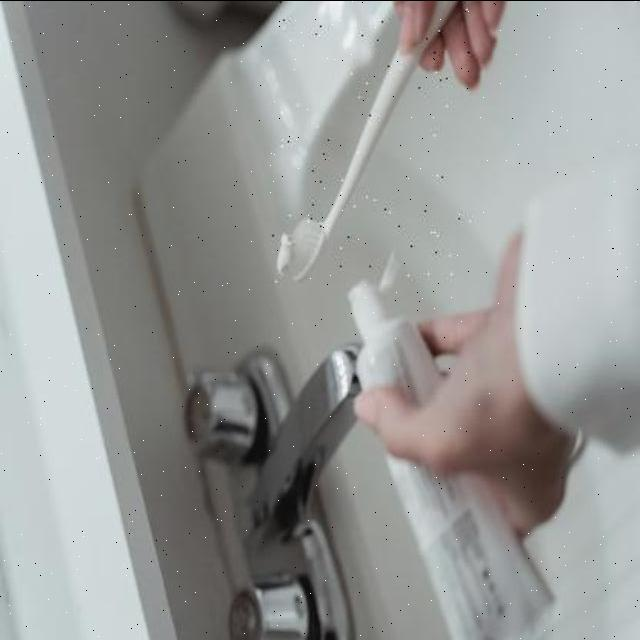toothbrush: (270, 0, 470, 284)
